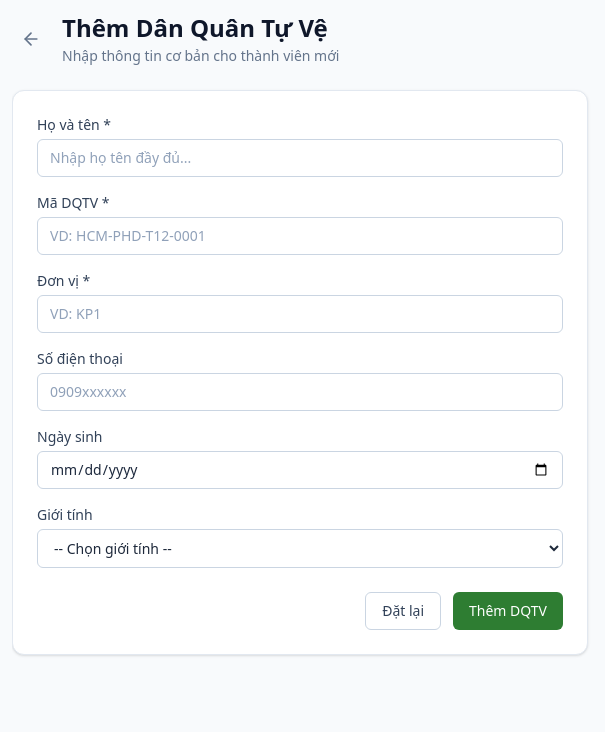
Test: MilitiaCreateForm › validation › validates militiaCode allows only uppercase letters, digits, hyphens
The width and height of the screenshot is (605, 732).
Type "invalid code!" into the field with test id "militiaCode-input" at (300, 236), box x1=37 y1=217 x2=563 y2=255
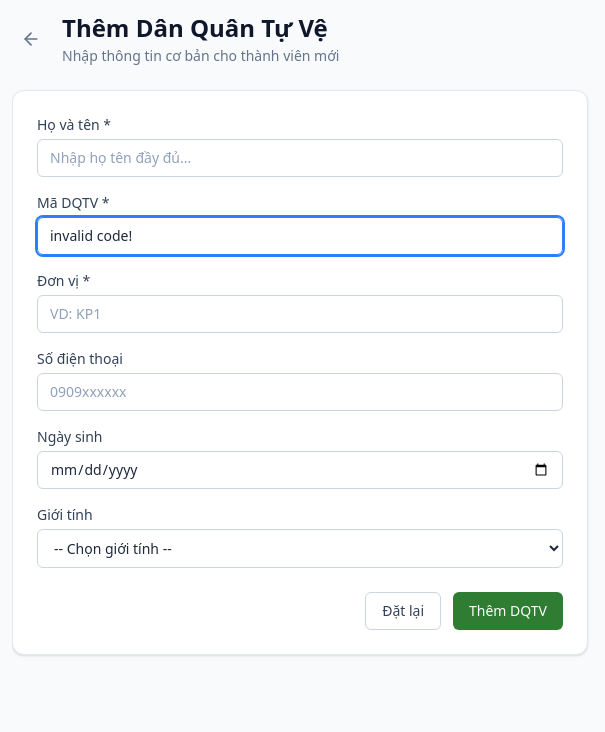
Click the button with test id "submit-btn" at (508, 611), box x1=453 y1=592 x2=563 y2=630
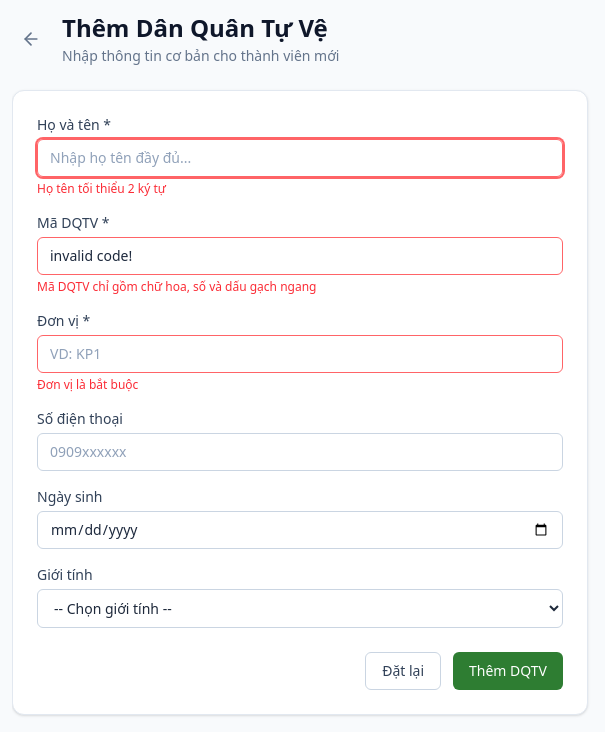
Check: the text "Mã DQTV chỉ gồm chữ hoa, số và dấu gạch ngang" is shown, box x1=37 y1=278 x2=316 y2=295
